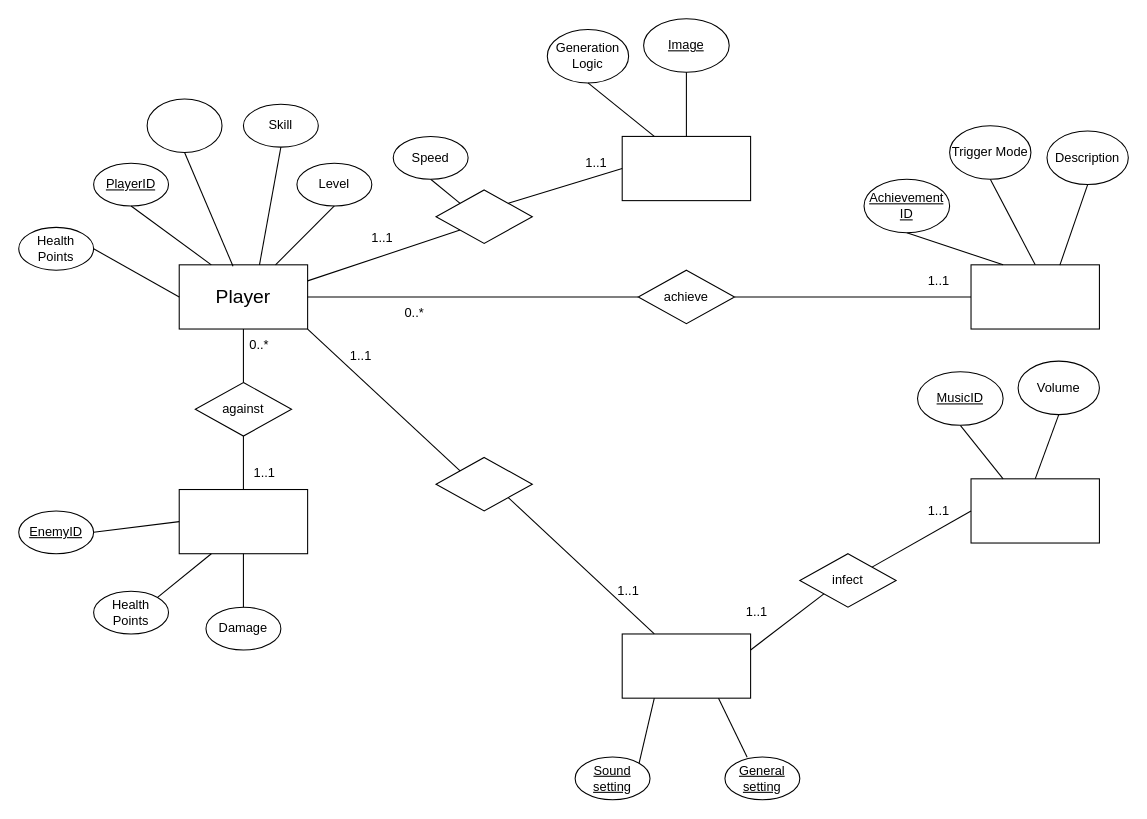
Some shapes in this 1147 by 819 pixel diagram are drawn without their labels. Here are the shapes that lost their labels. From the top down, the centre of each, then its label:
At pixel 184 125: "Surviving Time".
At pixel 686 168: "Map".
At pixel 483 216: "move".
At pixel 1034 296: "Achievement".
At pixel 483 483: "adjust".
At pixel 243 521: "Enemy".
At pixel 1034 510: "Music".
At pixel 686 665: "Game Setting".
